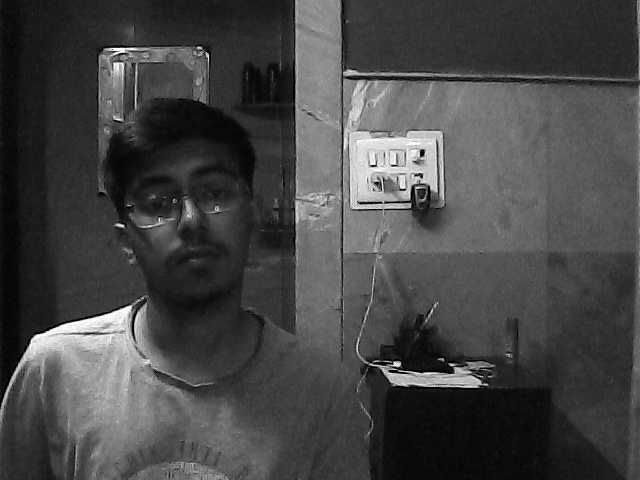nomask: (123, 133, 261, 309)
